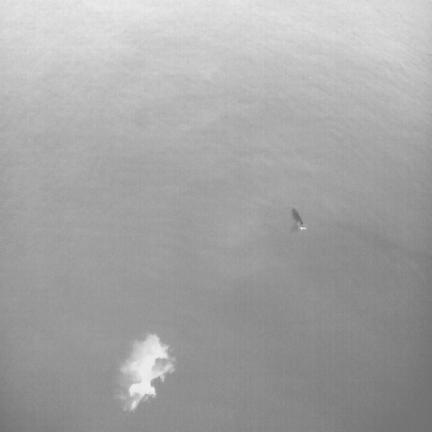flukeprints: (119, 334, 175, 410)
